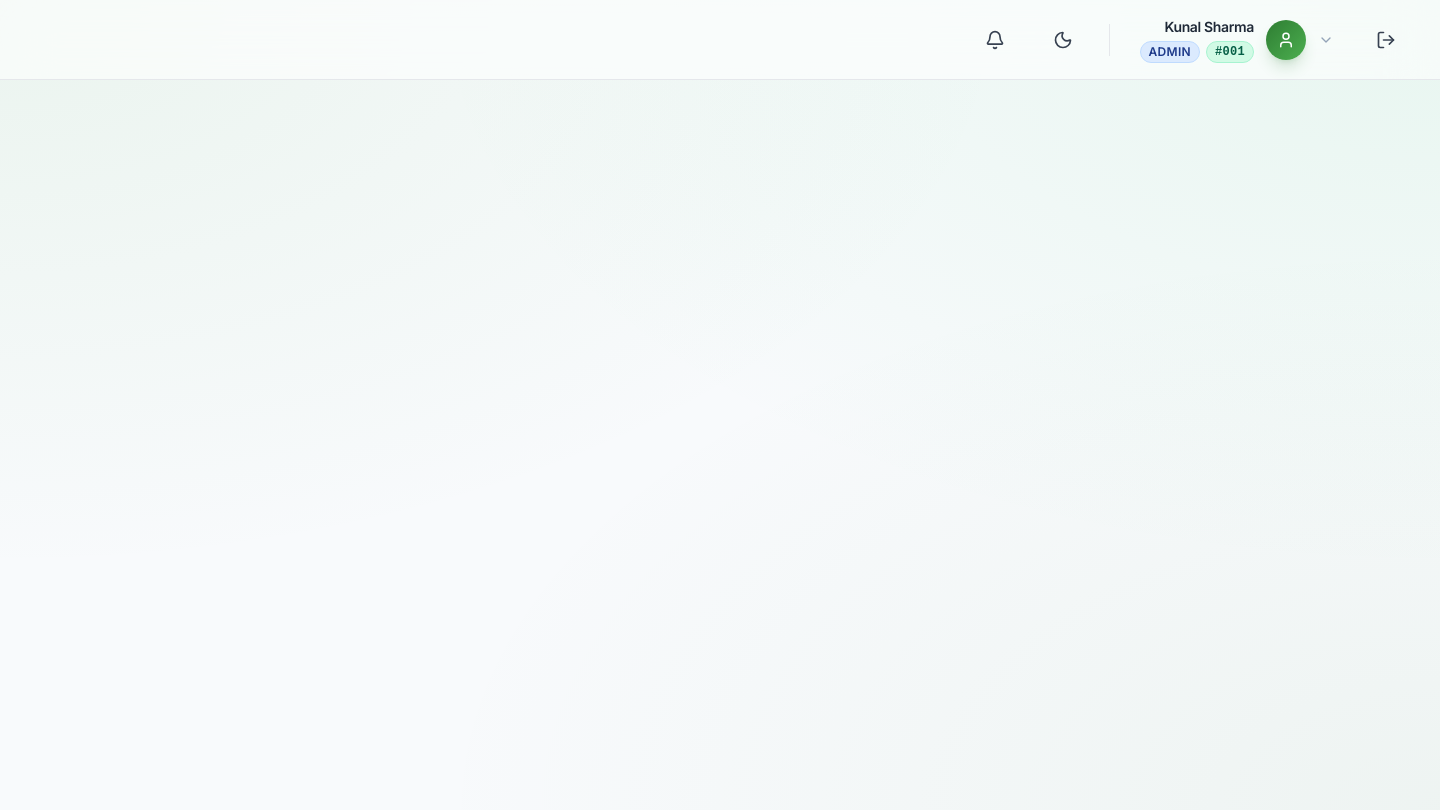
Test: components/Header.jsx › opens profile dropdown on click and displays Store Details option for admin
Step 1. Click the button with aria-label "User profile menu" → (1237, 40), box [1134,10,1340,68]
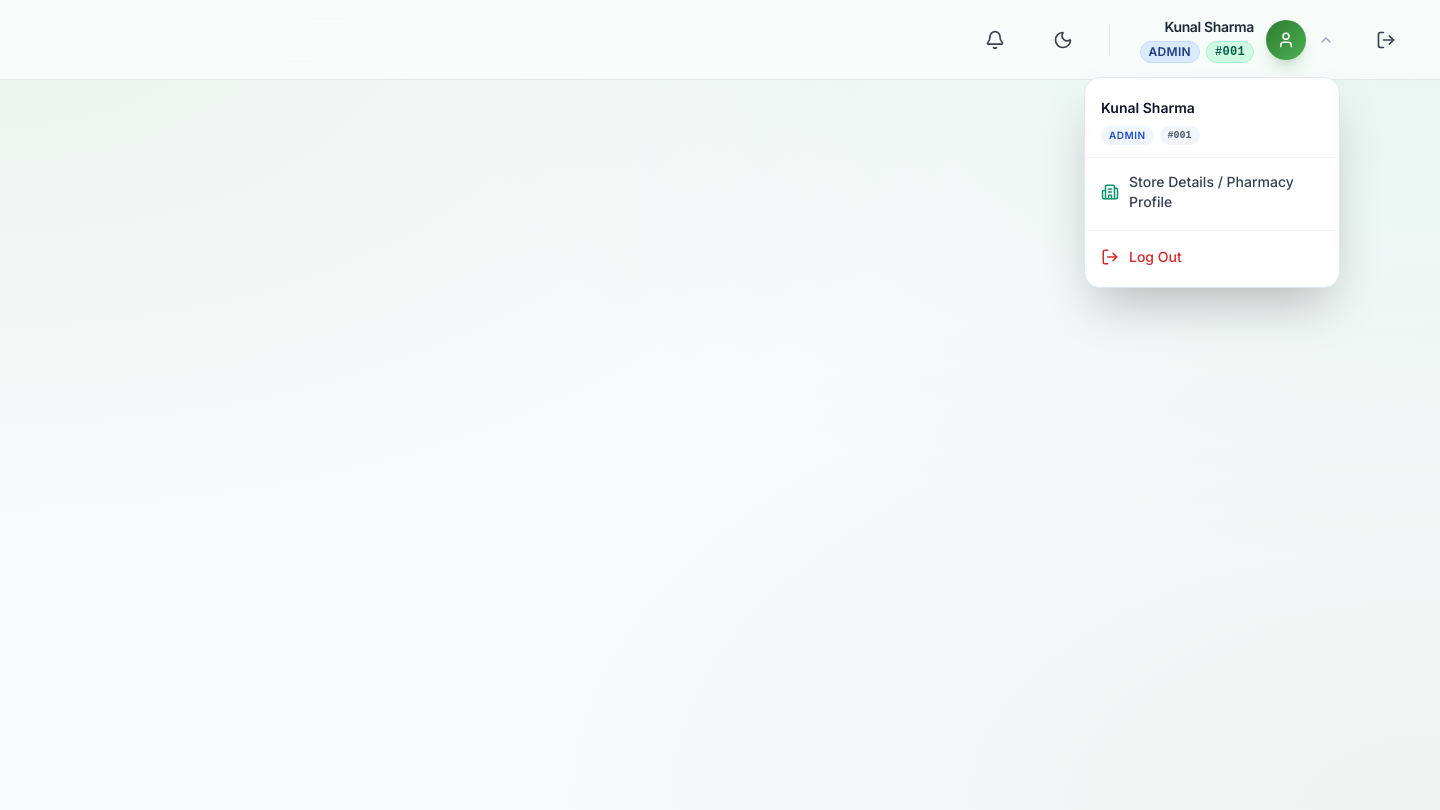
Expected: the menu is shown, [1084,76,1340,288]
Expected: the text "Store Details / Pharmacy Profile" is shown, [1129,172,1294,210]
